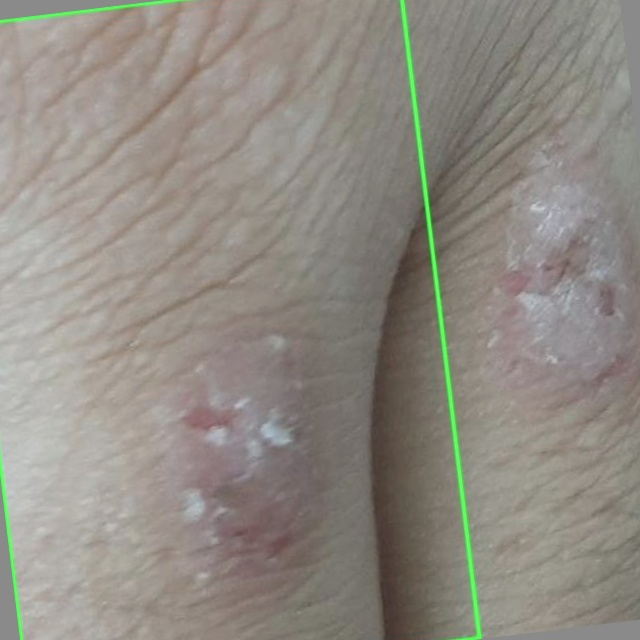Contact Dermatitis: (0, 0, 479, 639)
